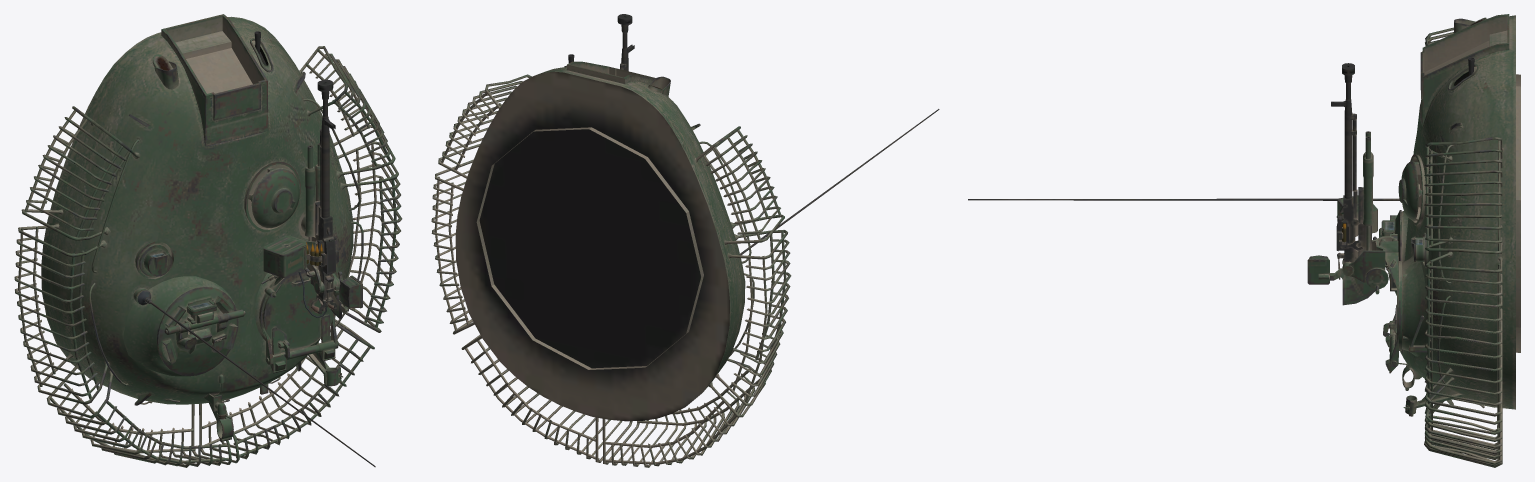
The model's file is Turret_01.glb.
3 views of the same model, side by side, from view 1: azimuth 30°, elevation 25°; view 2: azimuth 150°, elevation 25°; view 3: azimuth 270°, elevation 25° (orthographic). The views are drawn at different scales.
Parts seen in each view (by area): view 1: set_0_group_0; view 2: set_0_group_0; view 3: set_0_group_0.
Part boxes in pixels (box(x1,y1,x2,y2)): set_0_group_0: box(14, 14, 402, 467); set_0_group_0: box(431, 14, 939, 467); set_0_group_0: box(968, 14, 1520, 467).
Size of the model in its own units: 2.73 by 3.03 by 3.62.
Materials: 1 (1 with a texture image).
